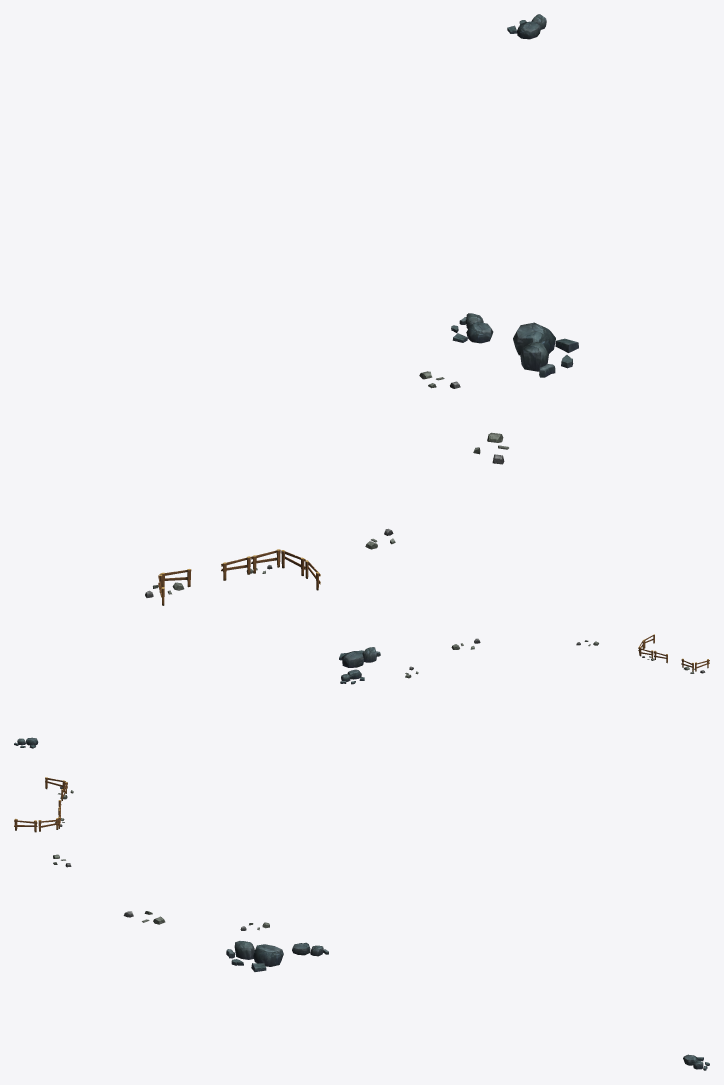
The model's file is wujian27_1.fbx.
3 views of the same model, one above another, from view 1: azimuth 30°, elevation 25°; view 2: azimuth 150°, elevation 25°; view 3: azimuth 270°, elevation 25° (orthographic). The views are drawn at different scales.
Parts seen in each view (by area): view 1: wujian27_1; view 2: wujian27_1; view 3: wujian27_1.
Boxes of the visible parts, x1=… form: wujian27_1: x1=145, y1=14, x2=578, y2=605; wujian27_1: x1=14, y1=634, x2=709, y2=748; wujian27_1: x1=14, y1=777, x2=709, y2=1070.
Size of the model in its own units: 6838 by 169 by 7086.
